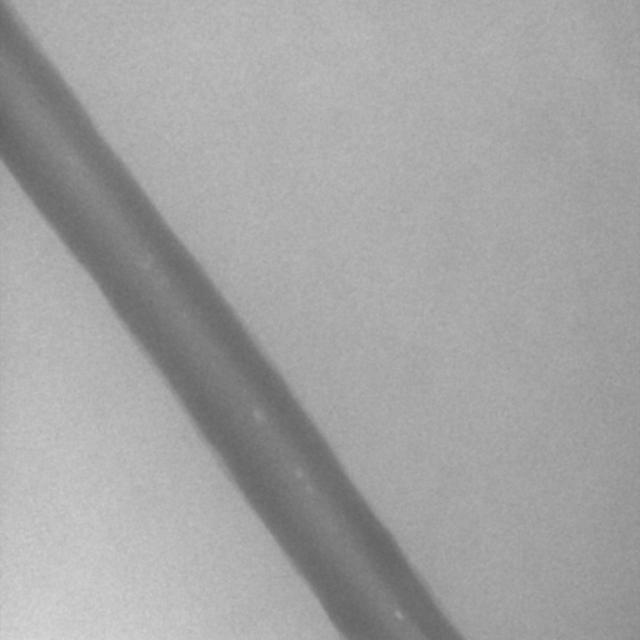air-hole: (249, 402, 269, 428), (141, 254, 155, 275), (395, 604, 406, 621), (305, 482, 313, 499), (294, 466, 302, 480)
